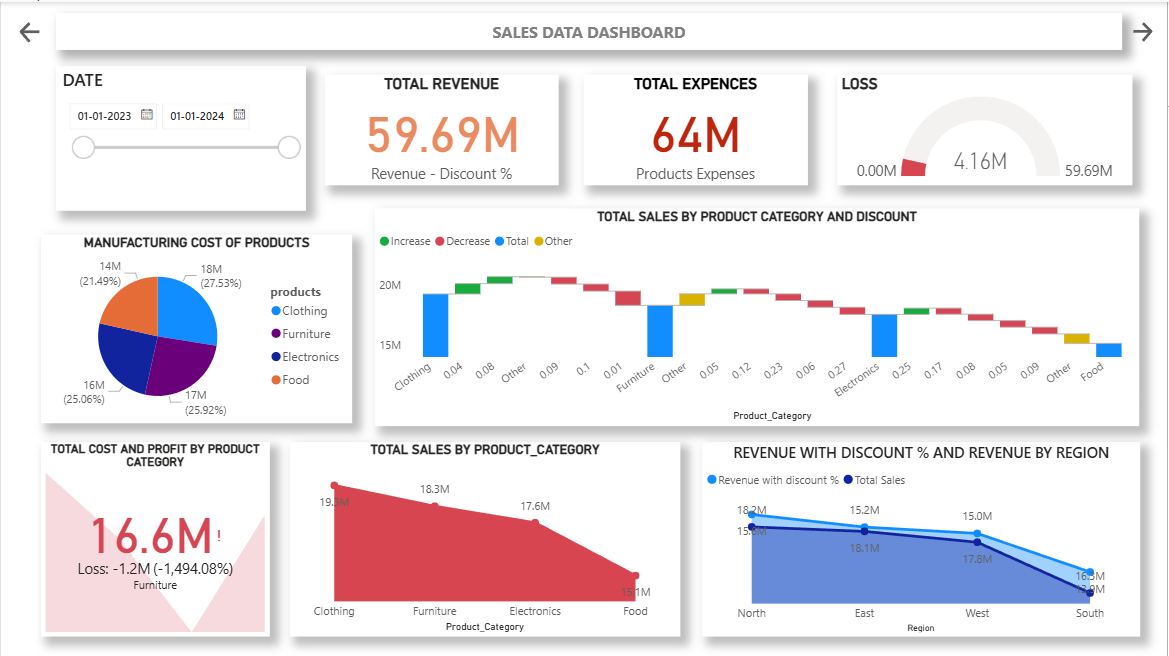

What the dashboard file says about the page in this screenshot:
{"tool":"powerbi","page":{"name":"Sales Data","canvas":[1280,720],"ordinal":1},"visuals":[{"type":"slicer","title":"DATE","fields":{"Values":["sales_data.Sale_Date"]},"box":[60.4,70,274.4,159.2],"z":0},{"type":"lineChart","title":"REVENUE WITH DISCOUNT % AND REVENUE BY REGION","fields":{"Category":["sales_data.Region"],"Y":["sales_data.Total Sales with discount"],"Y2":["sales_data.Total Sales"]},"box":[769.4,483.4,480.5,214],"z":1000},{"type":"kpi","title":"TOTAL COST AND PROFIT BY PRODUCT CATEGORY","fields":{"TrendLine":["sales_data.Product_Category"],"Goal":["sales_data.Profit"],"Indicator":["sales_data.Total Cost"]},"box":[43.8,483.4,250.9,214],"z":2000},{"type":"card","title":"TOTAL REVENUE","fields":{"Values":["sales_data.Total Sales with discount"]},"box":[356,79.8,256.8,121.6],"z":3000},{"type":"card","title":"TOTAL EXPENCES","fields":{"Values":["sales_data.Total Cost"]},"box":[640,79.8,246.1,121.6],"z":4000},{"type":"lineChart","title":"TOTAL SALES BY PRODUCT_CATEGORY","fields":{"Y":["sales_data.Total Sales"],"Category":["sales_data.Product_Category"]},"box":[317.1,483.4,428.9,214],"z":5000},{"type":"pieChart","title":"MANUFACTURING COST OF PRODUCTS","fields":{"Category":["sales_data.Product_Category"],"Y":["sales_data.Total Cost"]},"box":[43.9,255.2,341.7,207.2],"z":6000},{"type":"waterfallChart","title":"TOTAL SALES BY PRODUCT CATEGORY AND DISCOUNT","fields":{"Breakdown":["sales_data.Discount"],"Y":["sales_data.Total Sales"],"Category":["sales_data.Product_Category"]},"box":[410.5,226.6,839.4,239.3],"z":7000},{"type":"gauge","title":"LOSS","fields":{"Y":["sales_data.Loss"],"MaxValue":["sales_data.Total Sales with discount"]},"box":[918.2,79.8,323.9,121.6],"z":8000},{"type":"shape","title":"SALES DATA DASHBOARD","box":[60.3,12.6,1170.1,39.9],"z":9000},{"type":"actionButton","box":[1237.2,17.5,42.8,30.2],"z":10000},{"type":"actionButton","box":[16.5,17.5,43.8,31.1],"z":11000}]}

Visuals, with their boxes in screenshot pixels (x1, y1, x2, y2), scaled from the page's 1280x720 canvas onto the 1169x656 screenshot:
"DATE" slicer: rect(55, 64, 306, 209)
"REVENUE WITH DISCOUNT % AND REVENUE BY REGION" lineChart: rect(703, 440, 1142, 635)
"TOTAL COST AND PROFIT BY PRODUCT CATEGORY" kpi: rect(40, 440, 269, 635)
"TOTAL REVENUE" card: rect(325, 73, 560, 183)
"TOTAL EXPENCES" card: rect(584, 73, 809, 183)
"TOTAL SALES BY PRODUCT_CATEGORY" lineChart: rect(290, 440, 681, 635)
"MANUFACTURING COST OF PRODUCTS" pieChart: rect(40, 233, 352, 421)
"TOTAL SALES BY PRODUCT CATEGORY AND DISCOUNT" waterfallChart: rect(375, 206, 1142, 424)
"LOSS" gauge: rect(839, 73, 1134, 183)
"SALES DATA DASHBOARD" shape: rect(55, 11, 1124, 48)
actionButton: rect(1130, 16, 1168, 43)
actionButton: rect(15, 16, 55, 44)
